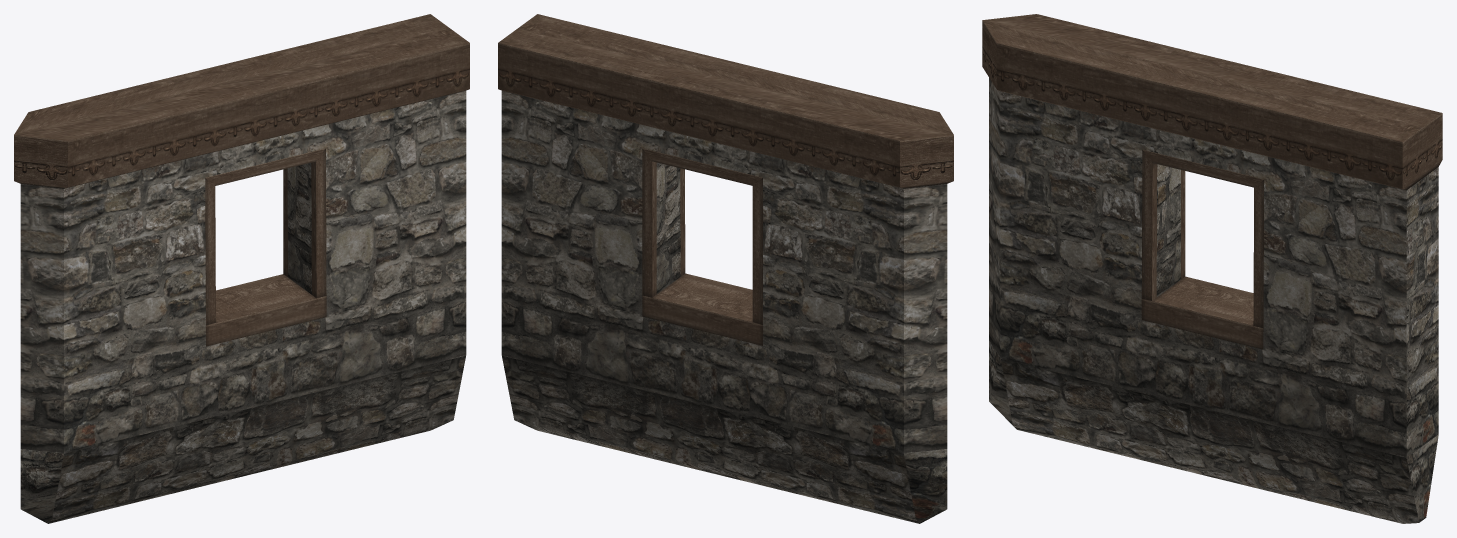
File: House_Stone_Wall_Window.dae
The picture shows the model from 3 angles, left to right: view 1: azimuth 30°, elevation 25°; view 2: azimuth 150°, elevation 25°; view 3: azimuth 330°, elevation 25°; orthographic projection.
Visible parts, largest first — view 1: StoneWindow; view 2: StoneWindow; view 3: StoneWindow.
Part boxes in pixels (bbox=[...]): StoneWindow: bbox=[14, 14, 469, 523]; StoneWindow: bbox=[498, 14, 953, 523]; StoneWindow: bbox=[982, 14, 1442, 523].
Bounding box in the file's own units: 4.34 × 3.78 × 0.68.
Materials: 1 (1 with a texture image).
